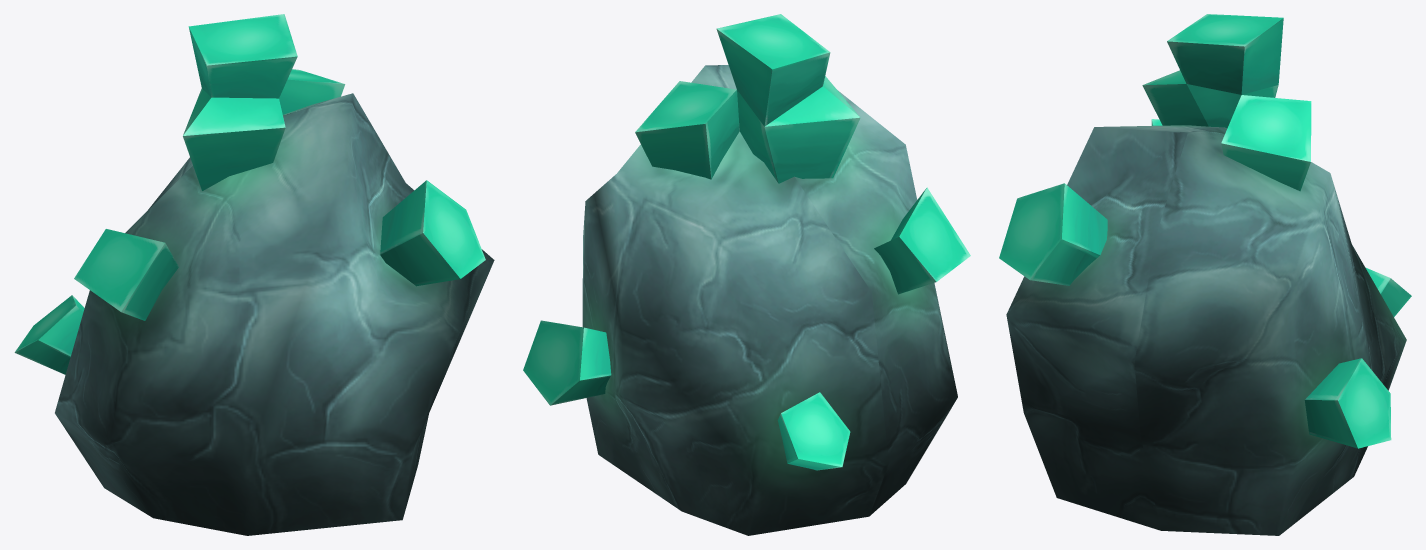
File: ore_medium_adamantite.fbx
3 views of the same model, side by side, from view 1: azimuth 30°, elevation 25°; view 2: azimuth 150°, elevation 25°; view 3: azimuth 270°, elevation 25° (orthographic).
Parts seen in each view (by area): view 1: ore_medium_adamantite:Mesh; view 2: ore_medium_adamantite:Mesh; view 3: ore_medium_adamantite:Mesh.
Boxes of the visible parts, bbox=[...] form: ore_medium_adamantite:Mesh: bbox=[14, 14, 494, 535]; ore_medium_adamantite:Mesh: bbox=[523, 14, 970, 535]; ore_medium_adamantite:Mesh: bbox=[999, 14, 1411, 535].
Bounding box in the file's own units: 3.89 × 4.44 × 3.78.
